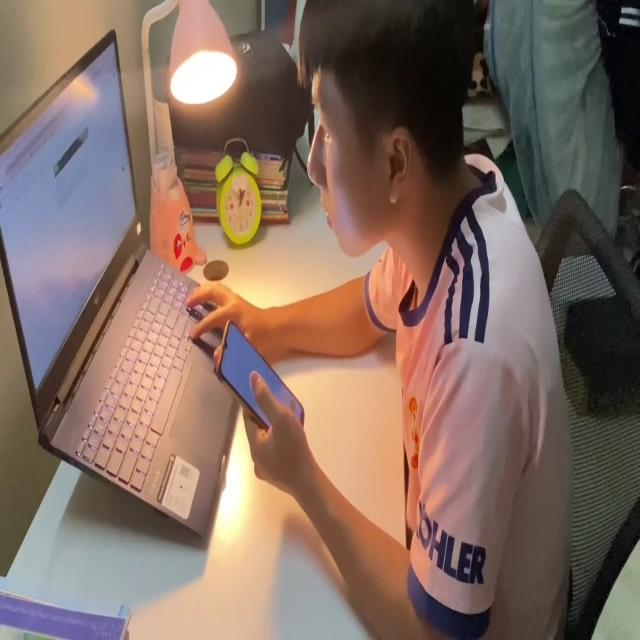laptop: (0, 24, 245, 543)
phone: (216, 311, 307, 442)
student: (189, 0, 573, 640)
